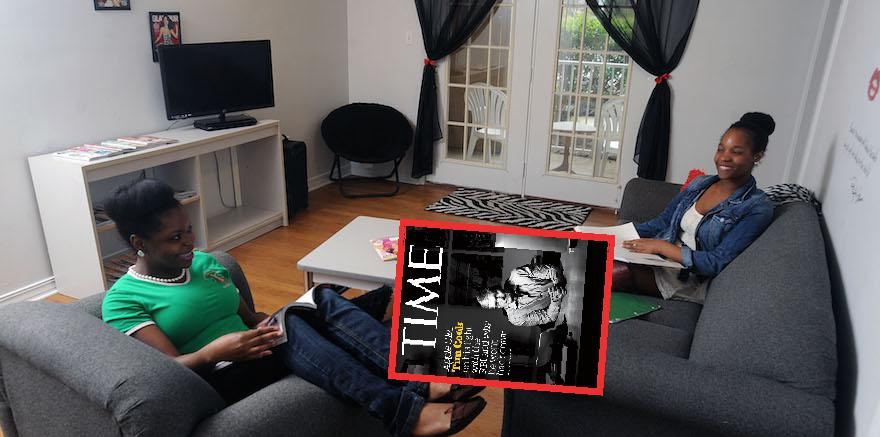times: (384, 219, 618, 401)
